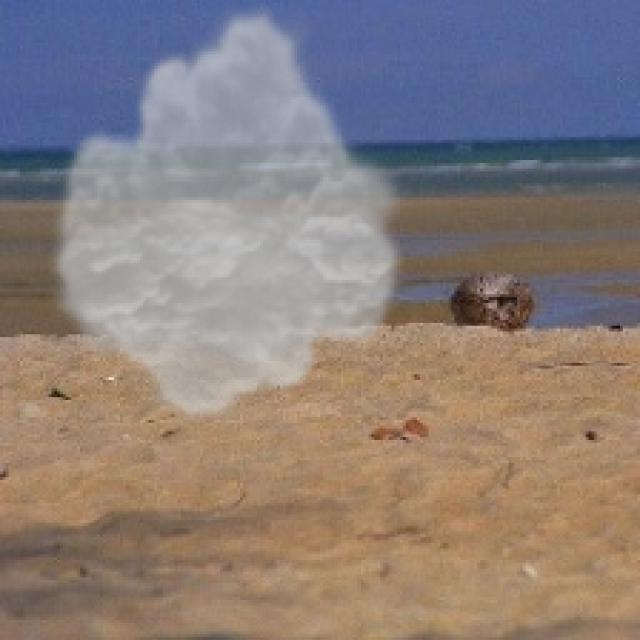smoke: (43, 3, 411, 423)
